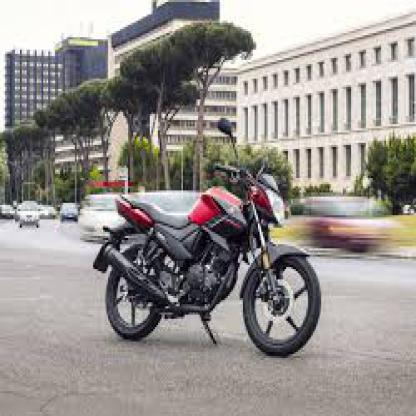Motorcycle: (91, 117, 326, 354)
